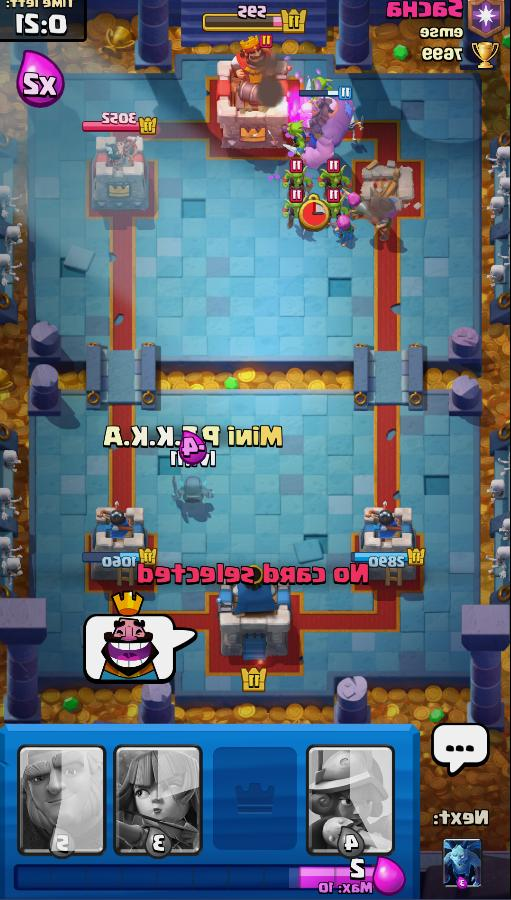archere: (326, 212, 358, 249), (340, 190, 363, 217)
geant: (306, 95, 357, 153)
gobelin: (280, 122, 314, 158), (278, 194, 312, 227), (280, 165, 314, 195), (317, 165, 349, 194), (300, 78, 333, 106), (321, 192, 345, 223)
mini_PEKKA: (169, 477, 214, 507)
mousquetaire: (358, 199, 398, 248)
squelette: (335, 115, 368, 148)
